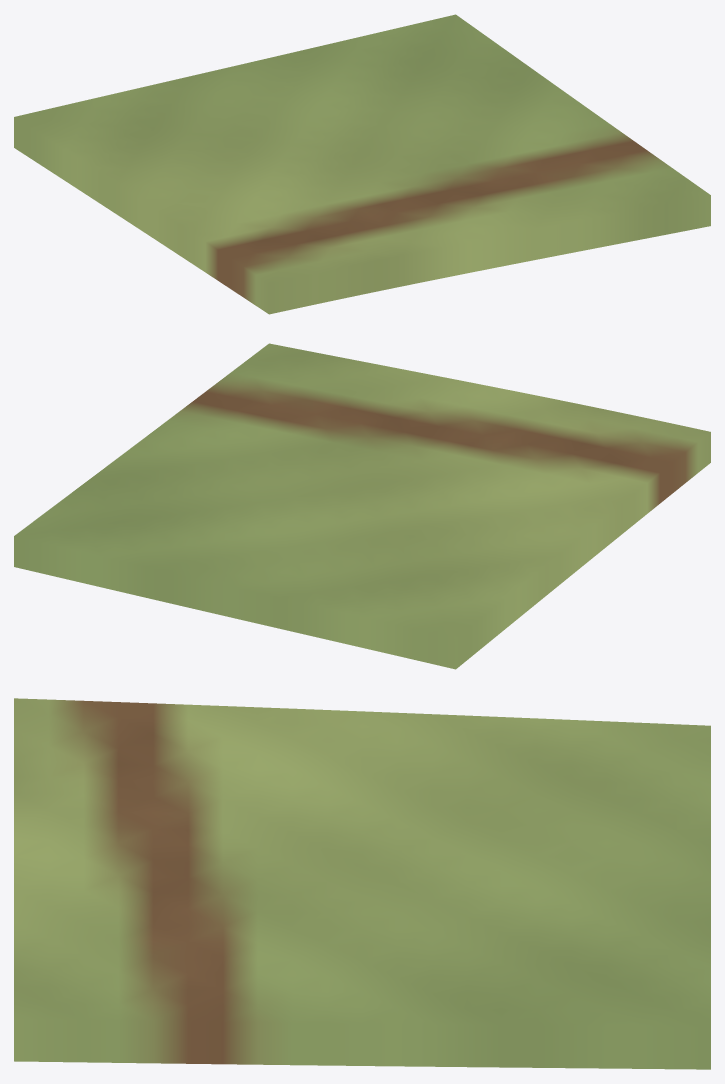
3 renders of one model, top to bottom at view 1: azimuth 30°, elevation 25°; view 2: azimuth 150°, elevation 25°; view 3: azimuth 270°, elevation 25°, orthographic. The views are drawn at different scales.
Parts seen in each view (by area): view 1: terrain; view 2: terrain; view 3: terrain.
Boxes of the visible parts, bbox=[...] form: terrain: bbox=[14, 14, 710, 314]; terrain: bbox=[14, 343, 710, 669]; terrain: bbox=[14, 698, 710, 1069].
Size of the model in its own units: 30 by 3.64 by 30.
